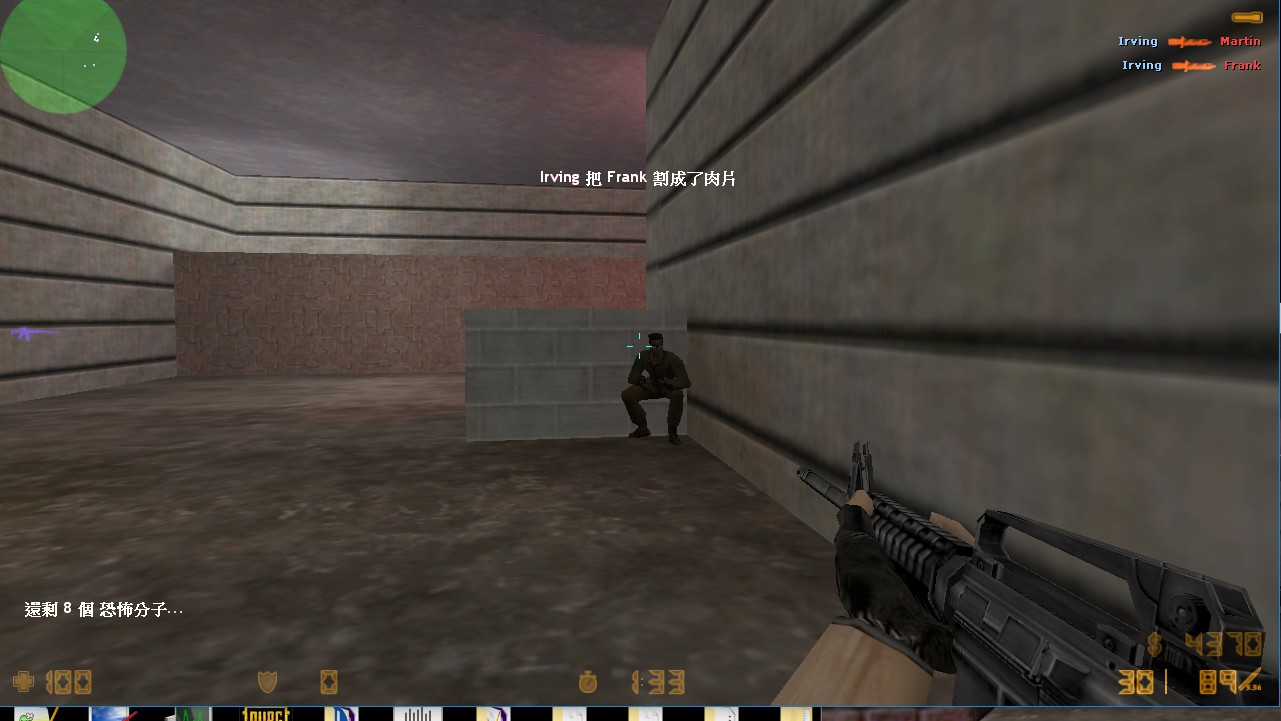person: (621, 331, 697, 445)
